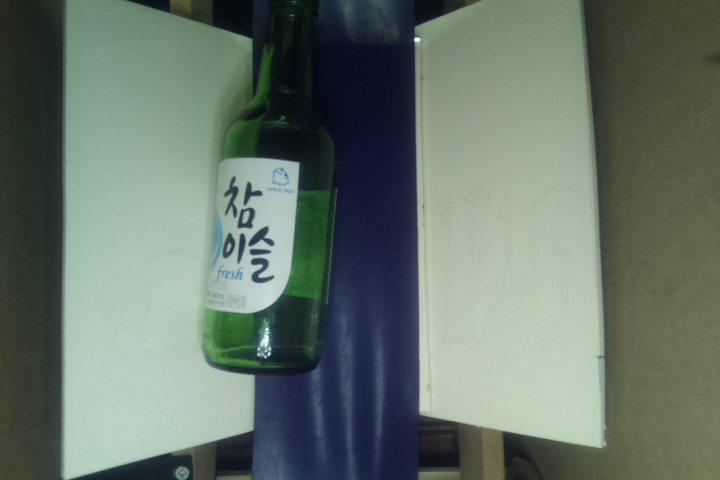soju: (205, 1, 346, 378)
